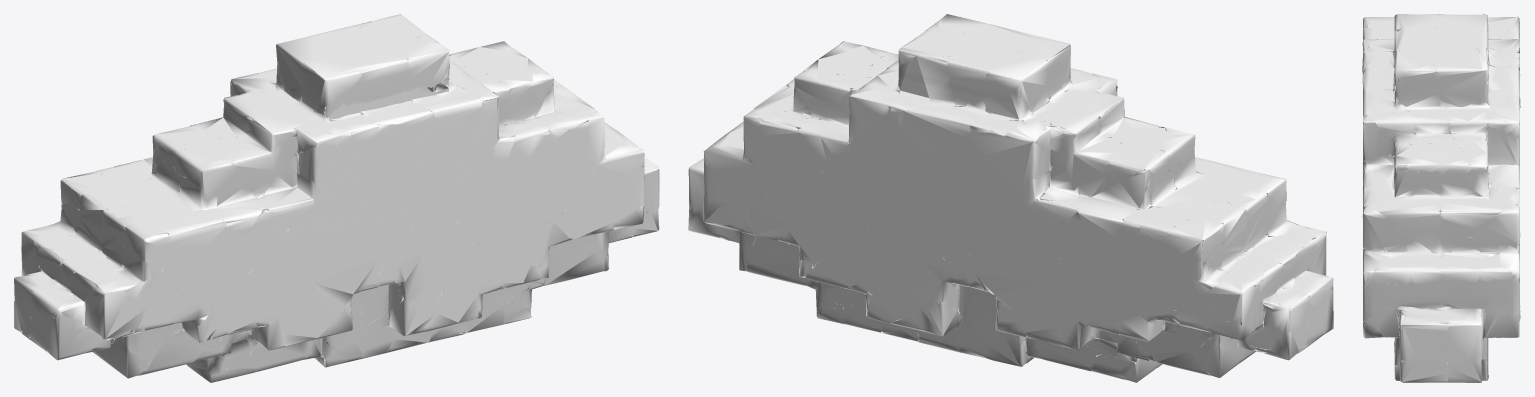
File: nube3.fbx
The picture shows the model from 3 angles, left to right: view 1: azimuth 30°, elevation 25°; view 2: azimuth 150°, elevation 25°; view 3: azimuth 270°, elevation 25°; orthographic projection. The views are drawn at different scales.
Visible parts, largest first — view 1: Mesh_0.012; view 2: Mesh_0.012; view 3: Mesh_0.012.
Boxes of the visible parts, bbox=[...] form: Mesh_0.012: bbox=[14, 14, 659, 382]; Mesh_0.012: bbox=[688, 14, 1333, 382]; Mesh_0.012: bbox=[1362, 14, 1520, 382].
Bounding box in the file's own units: 190 × 87.09 × 46.76.
1 material, 1 textured.
